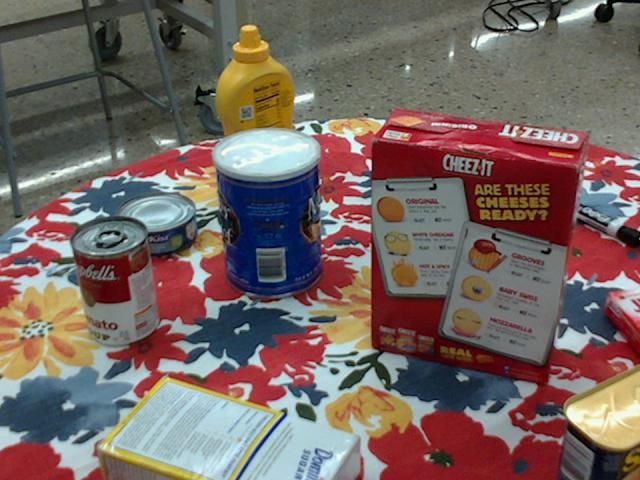cracker_box: (369, 110, 589, 387)
gelatin_box: (603, 288, 639, 356)
large_marker: (548, 191, 639, 246)
master_chef_can: (212, 126, 321, 299)
mug: (383, 134, 465, 216)
mustard_bottle: (217, 27, 300, 197)
potted_meat_can: (558, 364, 639, 479)
sugar_box: (95, 378, 360, 479)
tomato_soup_can: (71, 215, 158, 346)
tuna_fish_can: (117, 191, 198, 255)
